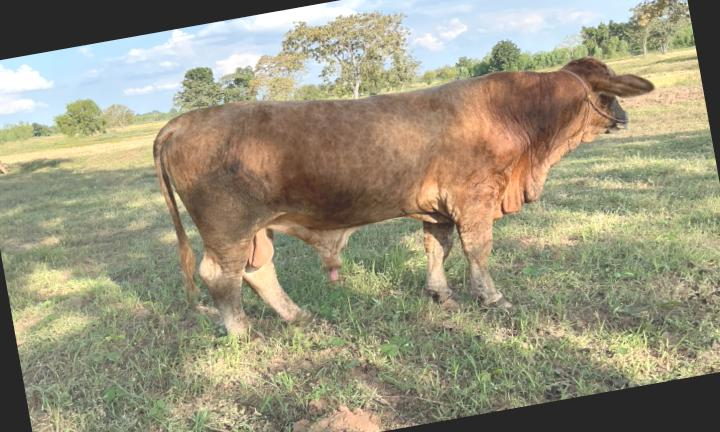Charolais: (154, 57, 654, 333)
